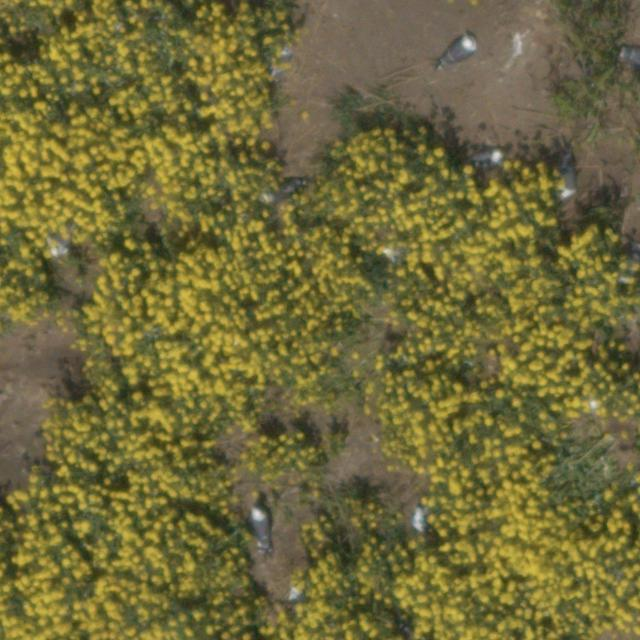umineko: (442, 37, 474, 63), (560, 160, 578, 202), (252, 507, 271, 545), (472, 150, 500, 168), (411, 506, 427, 533), (620, 48, 640, 66)
